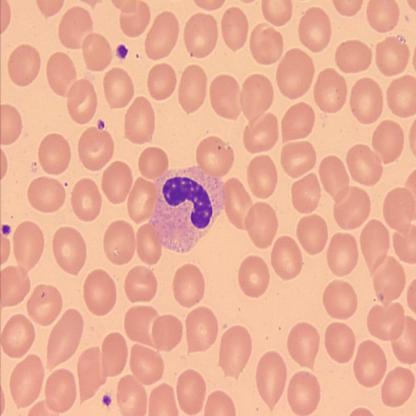Band Neutrophil: (148, 163, 226, 256)
